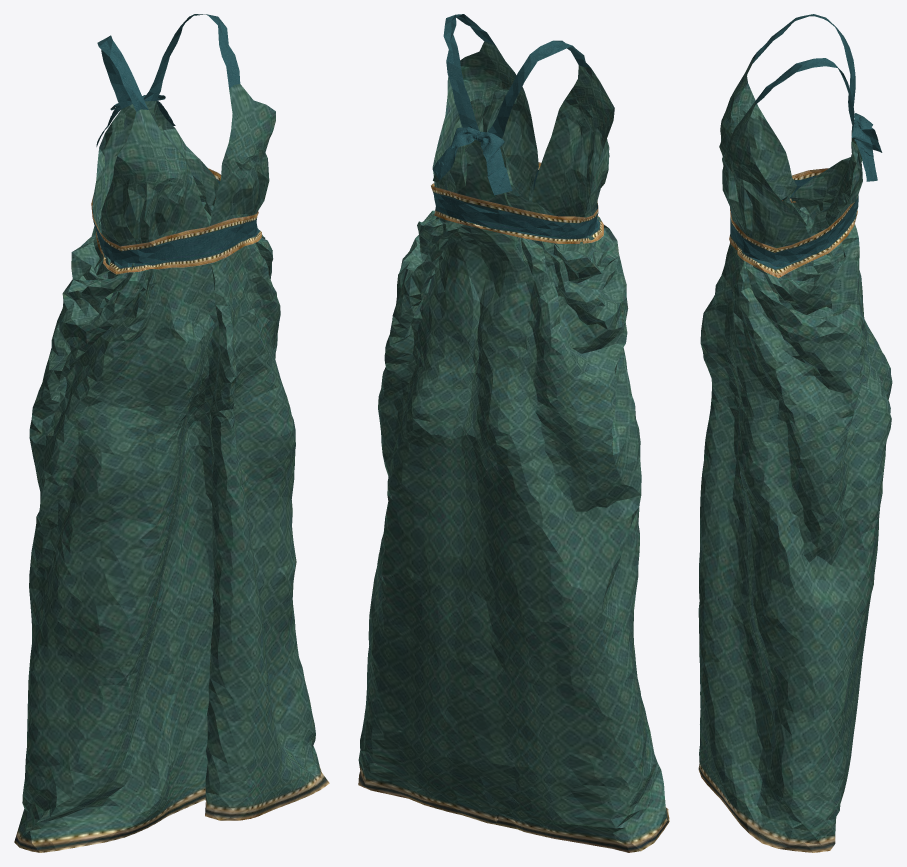
File: mhw_elvs_goddess_dress5.glb
3 views of the same model, side by side, from view 1: azimuth 30°, elevation 25°; view 2: azimuth 150°, elevation 25°; view 3: azimuth 270°, elevation 25° (orthographic). The views are drawn at different scales.
Parts seen in each view (by area): view 1: mhw_elvs_goddess_dress5; view 2: mhw_elvs_goddess_dress5; view 3: mhw_elvs_goddess_dress5.
Boxes of the visible parts, bbox=[...] form: mhw_elvs_goddess_dress5: bbox=[14, 14, 329, 852]; mhw_elvs_goddess_dress5: bbox=[358, 14, 669, 852]; mhw_elvs_goddess_dress5: bbox=[698, 14, 892, 852].
Bounding box in the file's own units: 0.6123 × 1.57 × 0.3642.
Materials: 1 (1 with a texture image).
